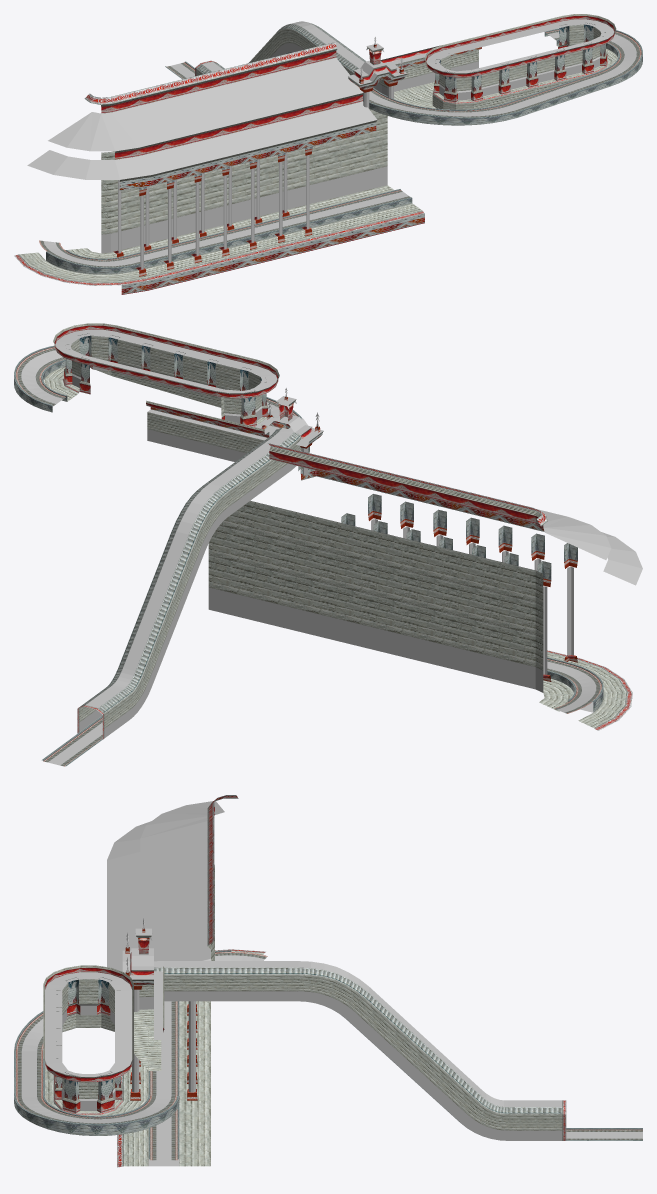
File: Seaside_course5.obj
3 renders of one model, top to bottom at view 1: azimuth 30°, elevation 25°; view 2: azimuth 150°, elevation 25°; view 3: azimuth 270°, elevation 25°, orthographic. The views are drawn at different scales.
Visible parts, largest first — view 1: obj1, Object_2; view 2: obj1, Object_2; view 3: obj1, Object_2.
Boxes of the visible parts, x1,y1,x2,y2 form: obj1: [14, 14, 642, 294]; Object_2: [167, 30, 641, 117]; obj1: [14, 323, 642, 766]; Object_2: [16, 347, 297, 766]; obj1: [14, 795, 642, 1167]; Object_2: [16, 1013, 642, 1139].
Bounding box in the file's own units: 6076 × 1948 × 4675.
